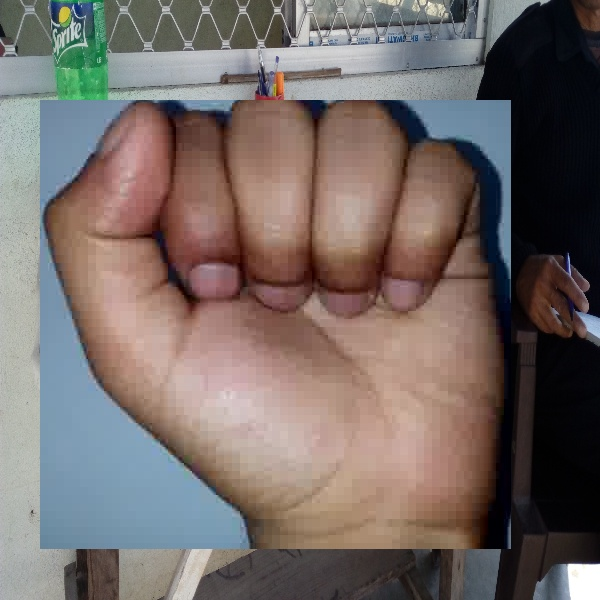A: (40, 100, 511, 549)
